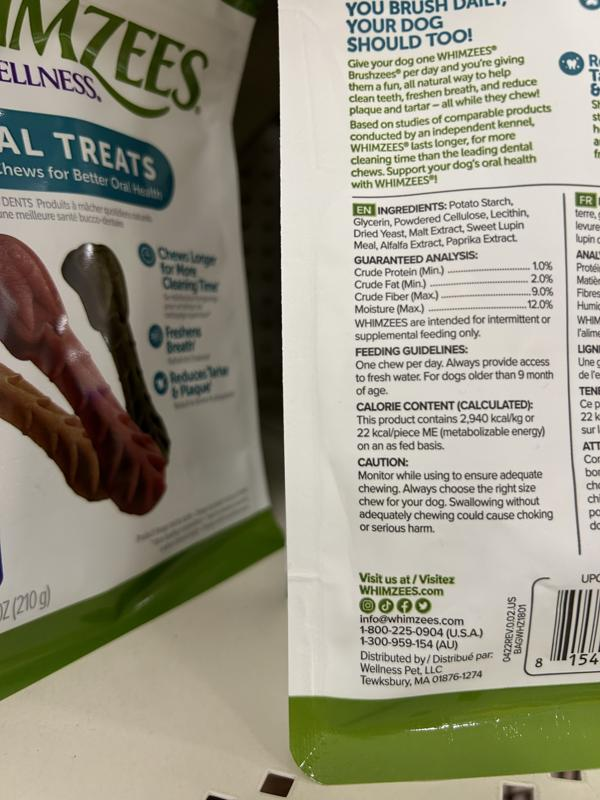ingredients: (351, 197, 530, 251)
